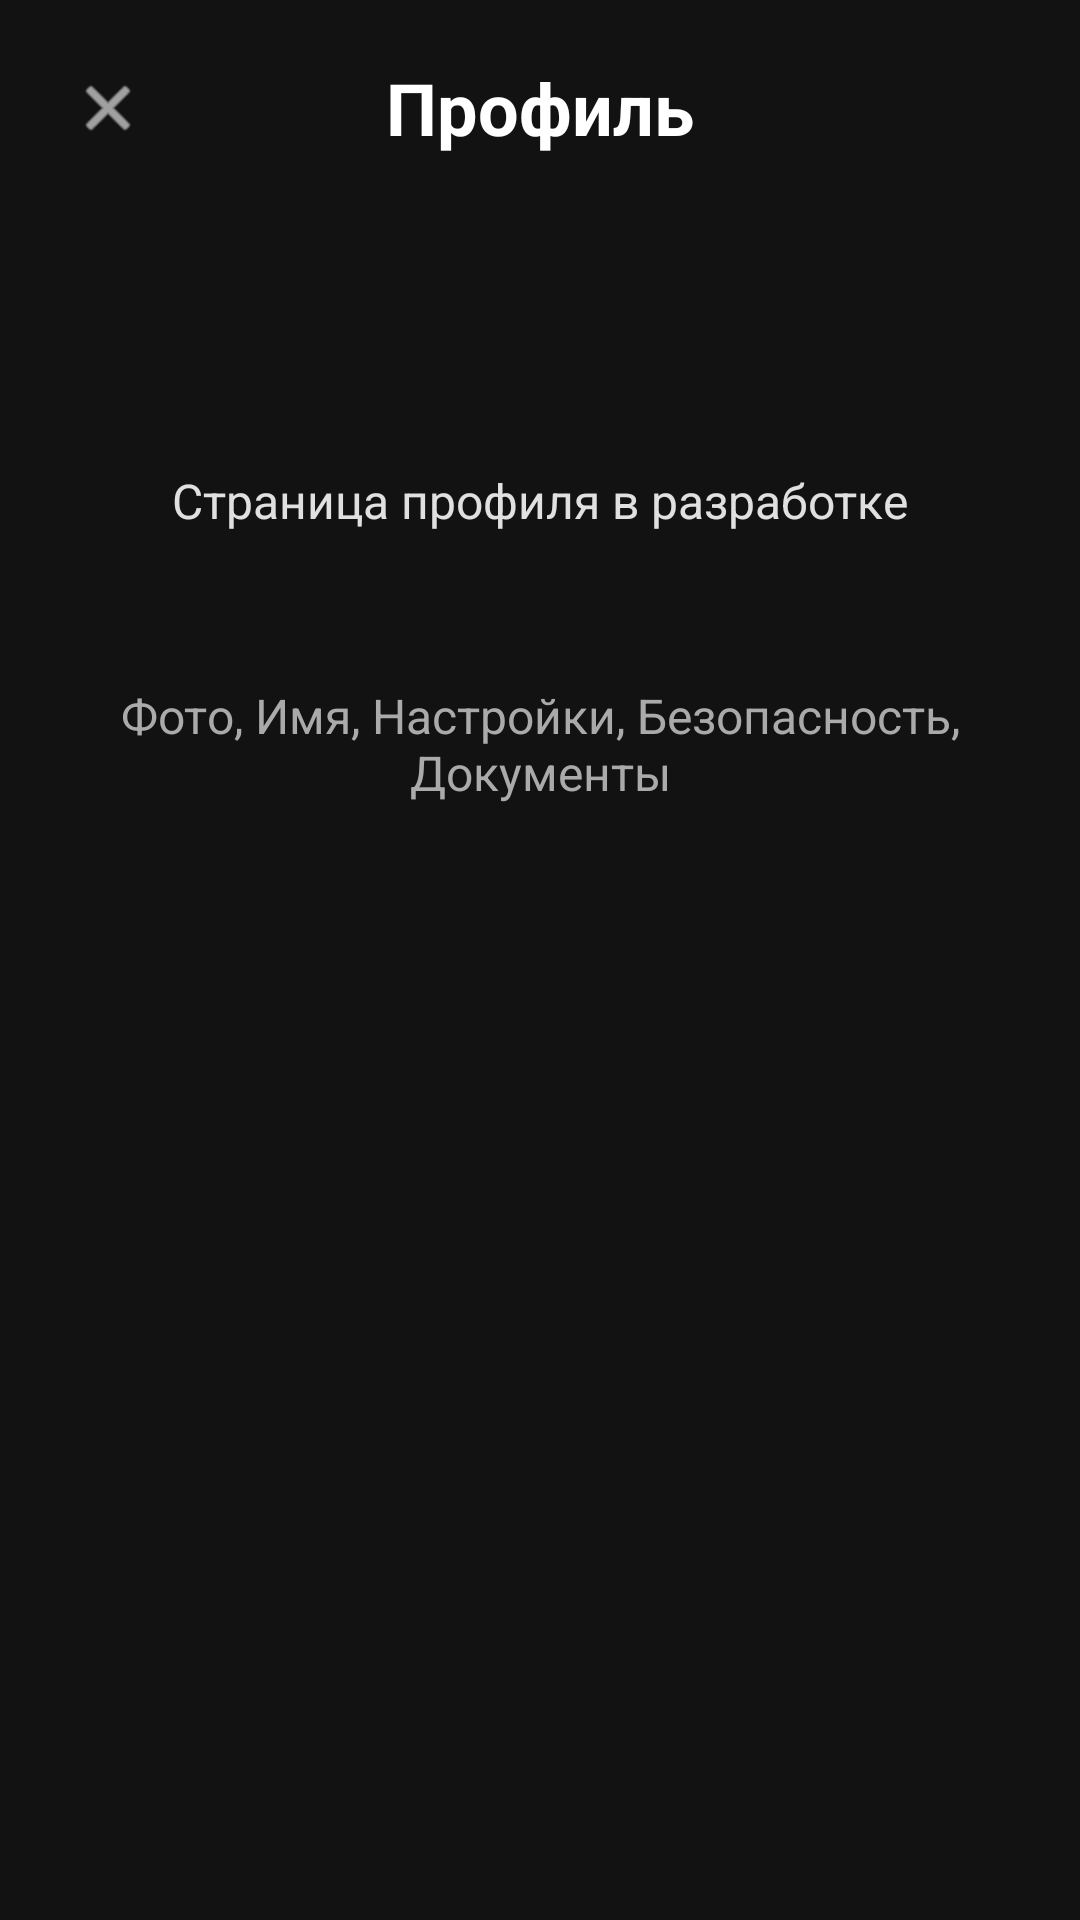

Icons on this 1080*1920 Android screen, each with its box as bbox(x1, y1, x2, y2):
Назад: bbox(85, 85, 131, 131)
